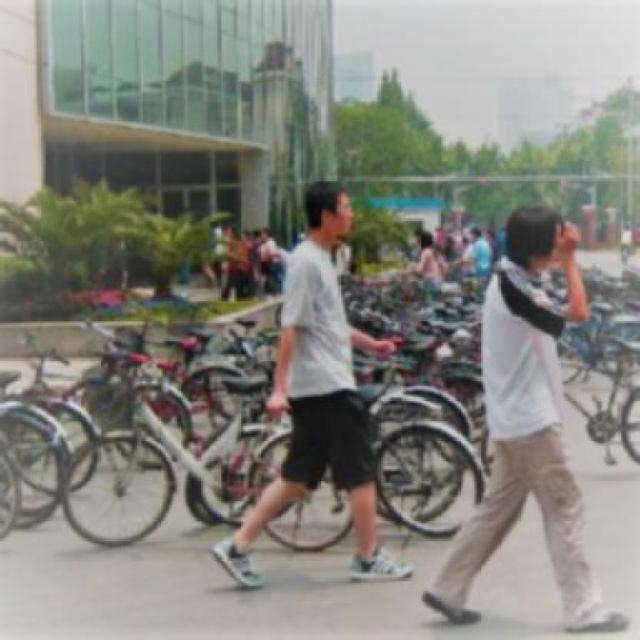Person: (420, 198, 631, 636), (207, 177, 416, 589)
